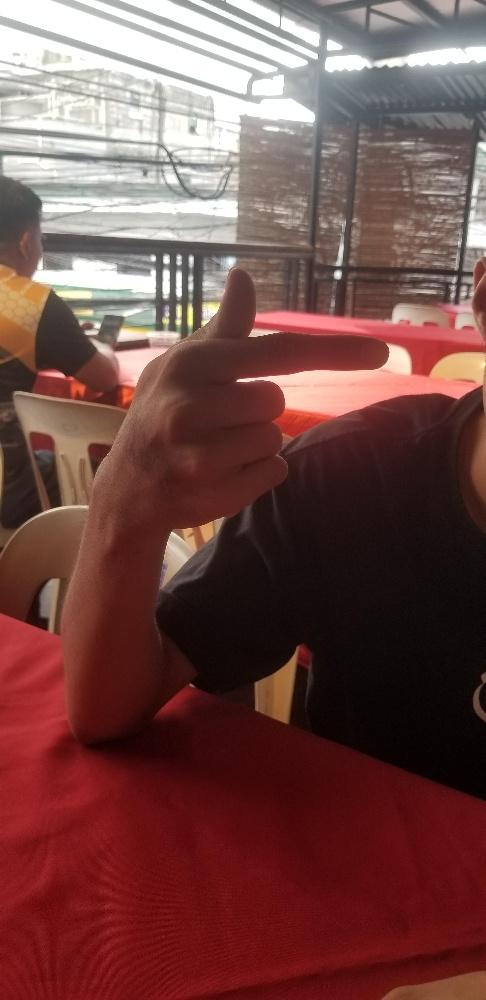g: (114, 260, 389, 531)
